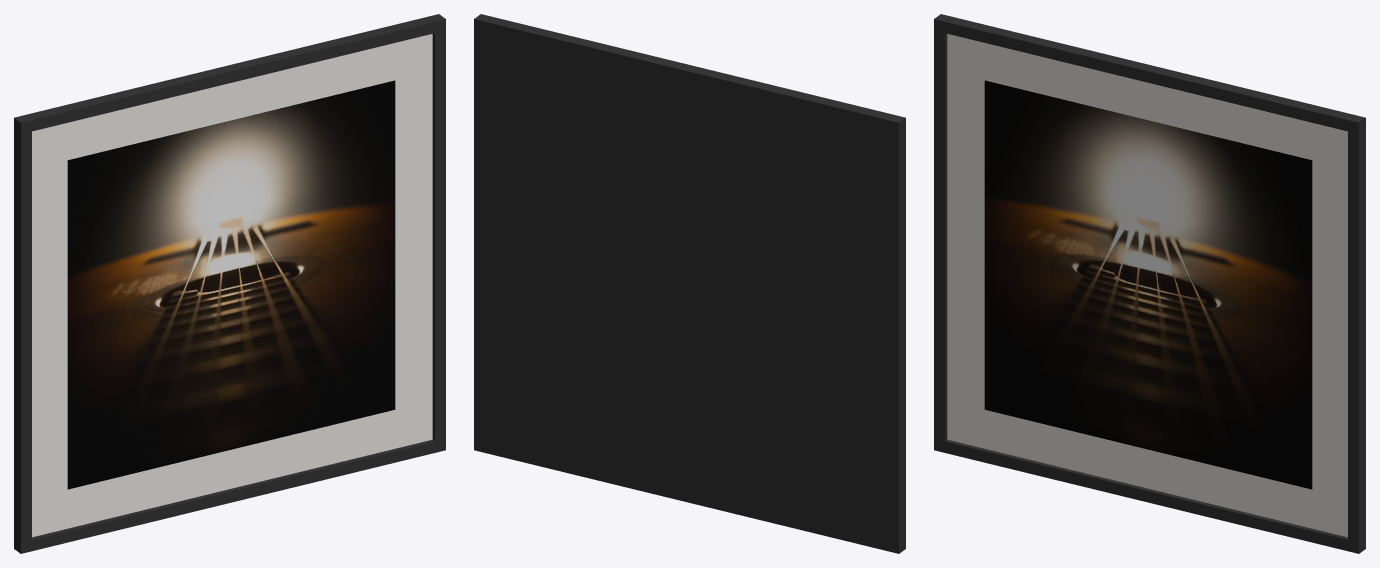
The model's file is strangarna-60.gltf.
3 views of the same model, side by side, from view 1: azimuth 30°, elevation 25°; view 2: azimuth 150°, elevation 25°; view 3: azimuth 330°, elevation 25° (orthographic).
Visible parts, largest first — view 1: tavla; view 2: tavla; view 3: tavla.
Boxes of the visible parts, x1,y1,x2,y2 form: tavla: (14,14,445,553); tavla: (474,14,905,553); tavla: (934,14,1365,553).
Size of the model in its own units: 0.7783 by 0.7546 by 0.022.
Materials: 3 (1 with a texture image).
